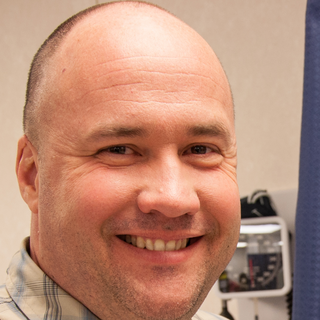eye: (92, 140, 145, 164), (179, 139, 227, 165)
